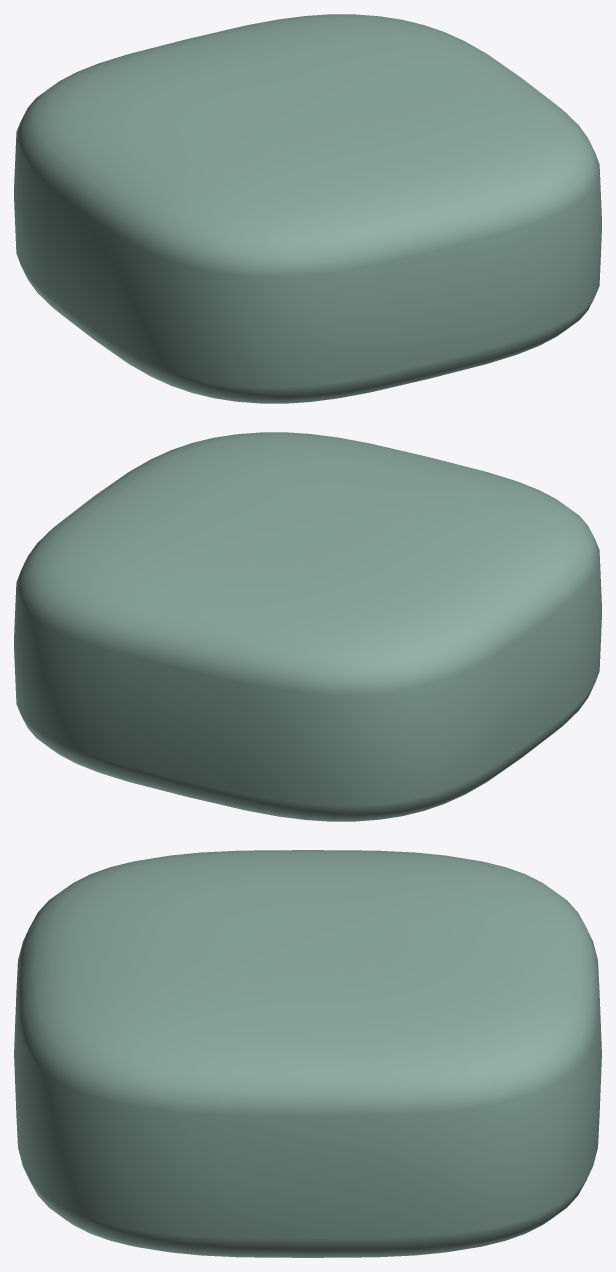
File: cushion.glb
3 views of the same model, one above another, from view 1: azimuth 30°, elevation 25°; view 2: azimuth 150°, elevation 25°; view 3: azimuth 270°, elevation 25° (orthographic). The views are drawn at different scales.
Visible parts, largest first — view 1: single-cushion-casing; view 2: single-cushion-casing; view 3: single-cushion-casing.
Part boxes in pixels (<box>): single-cushion-casing: <box>14,14,601,403</box>; single-cushion-casing: <box>14,432,601,821</box>; single-cushion-casing: <box>14,850,601,1257</box>.
Size of the model in its own units: 0.89 by 0.383 by 0.89.
